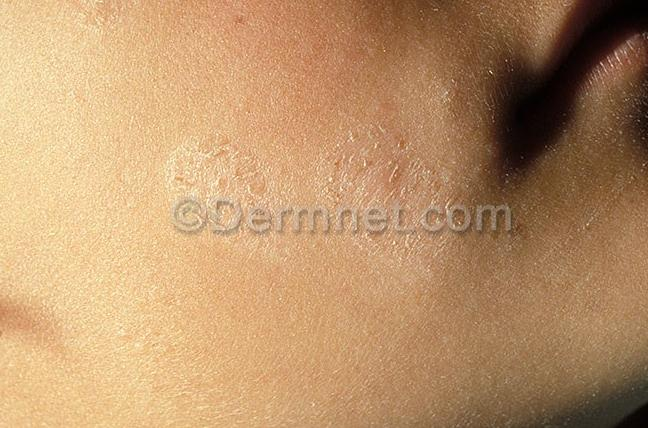xerosis 1: (506, 356, 648, 428)
xerosis 2: (167, 107, 469, 262)
